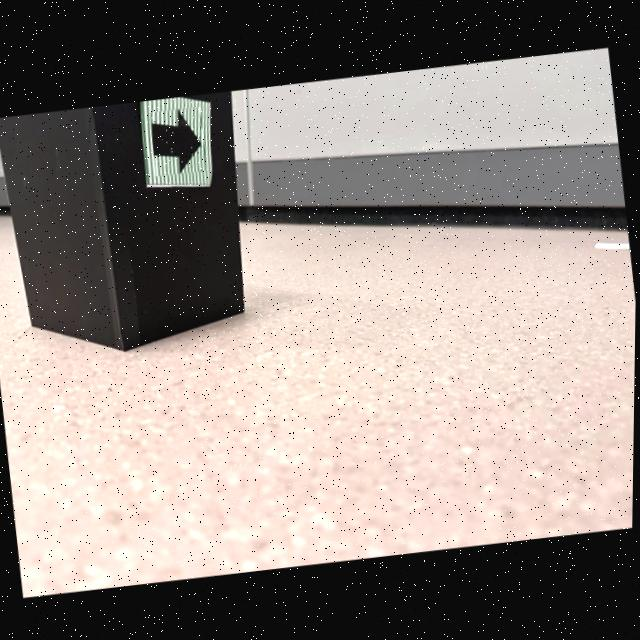RIGHT: (152, 109, 204, 173)
